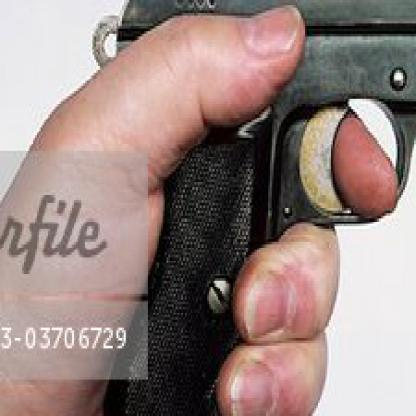gun: (77, 0, 415, 414)
